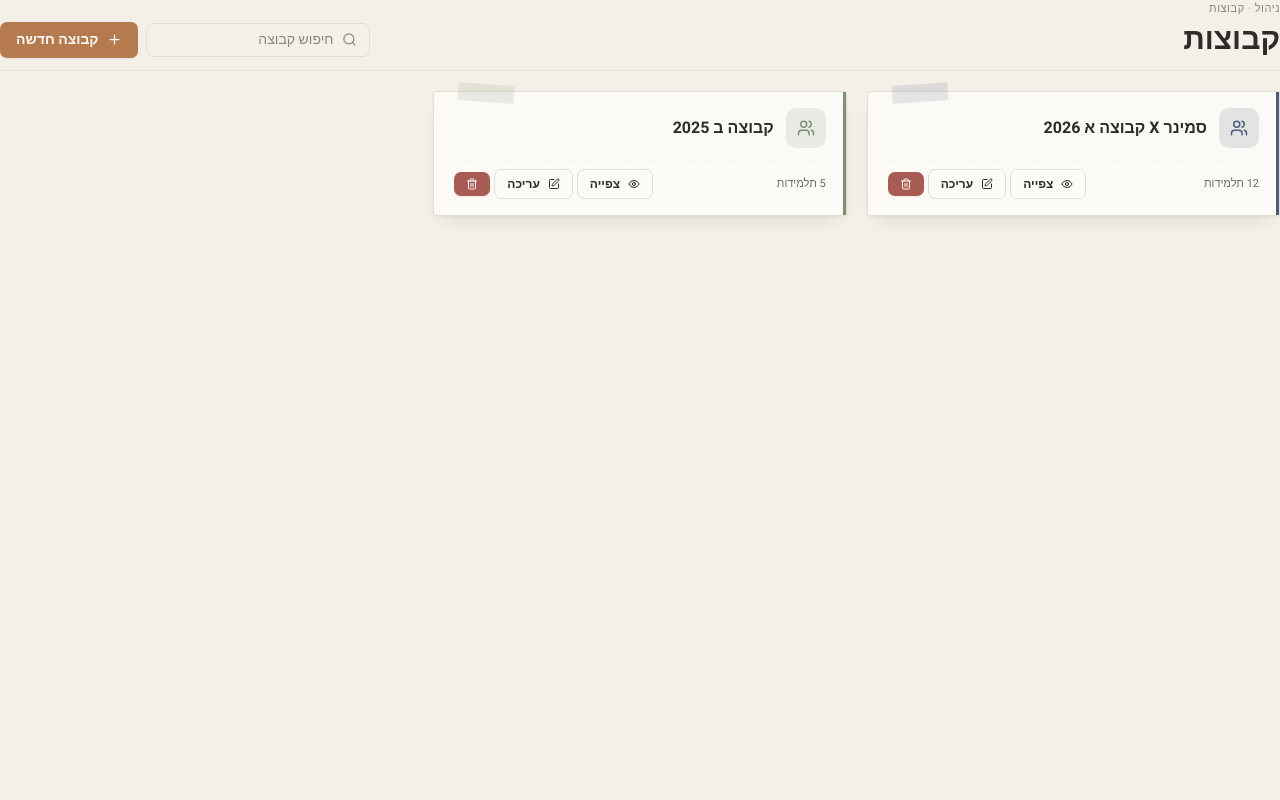
GroupsPage › editing and deleting straight from the list › keeps the group when she cancels
The width and height of the screenshot is (1280, 800).
Expected: the text "סמינר X קבוצה א 2026" is shown, [1044,116,1207,140]
Click the button named "מחיקת הקבוצה סמינר X קבוצה א 2026": (906, 184) [888,172,924,196]
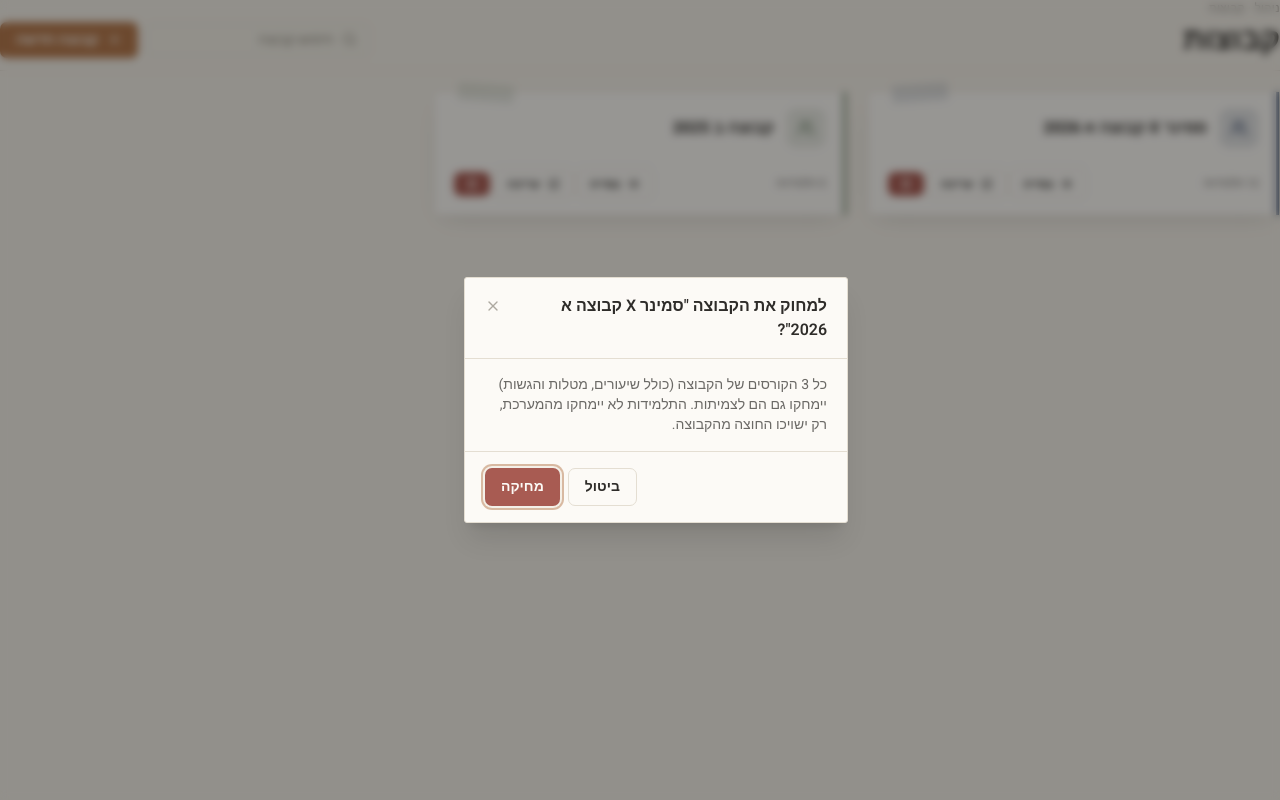
Click the button "ביטול": (602, 487) [568,468,637,506]
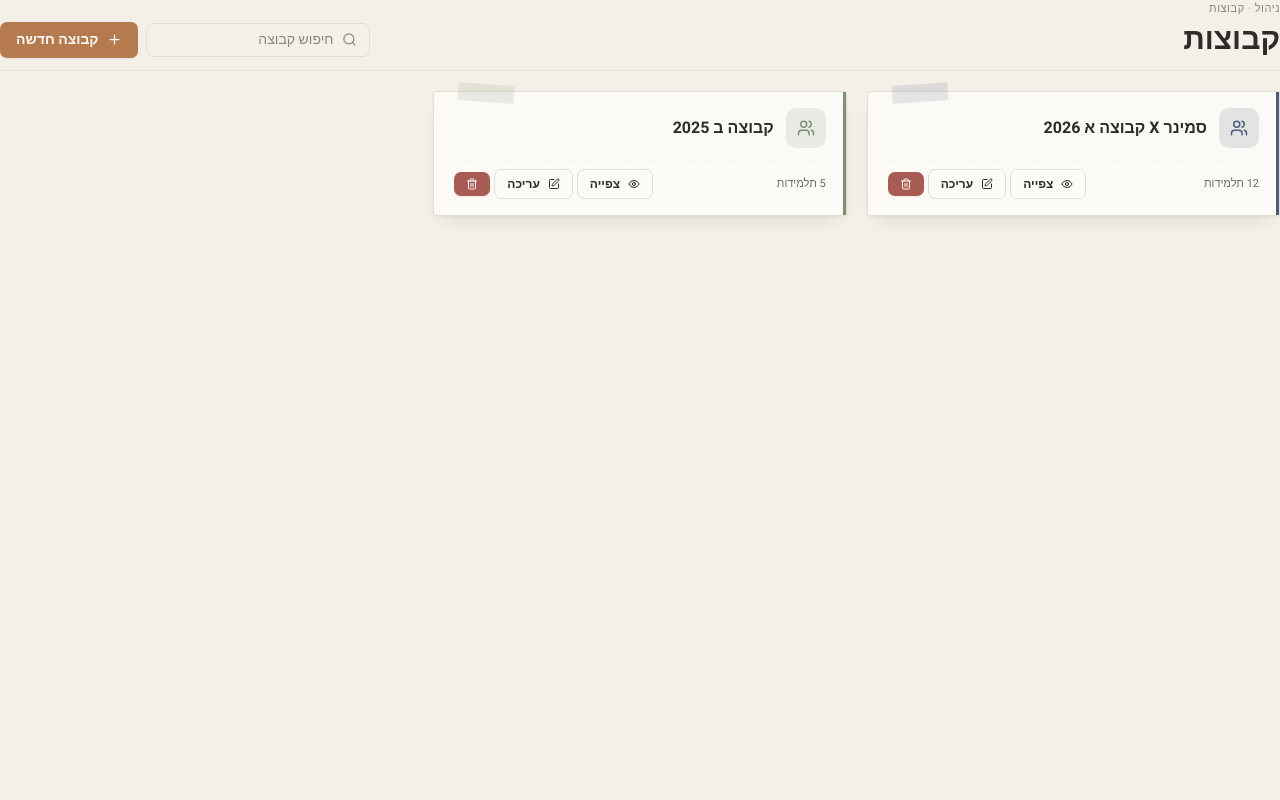
Now the dialog is gone
